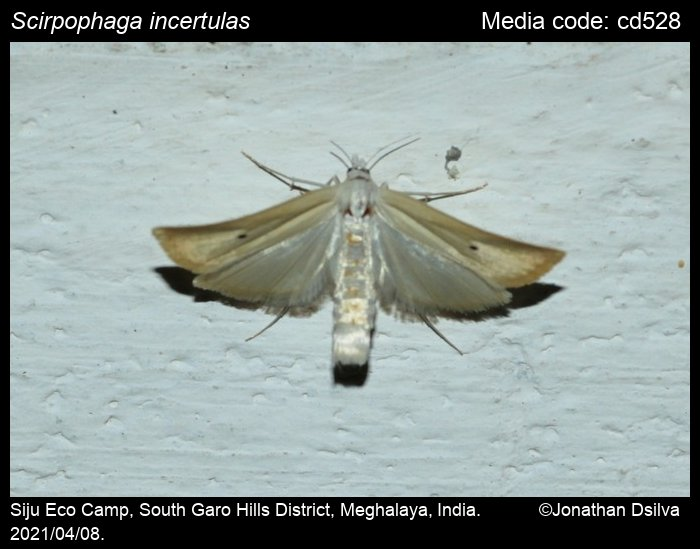Crambidae: (149, 130, 575, 388)
